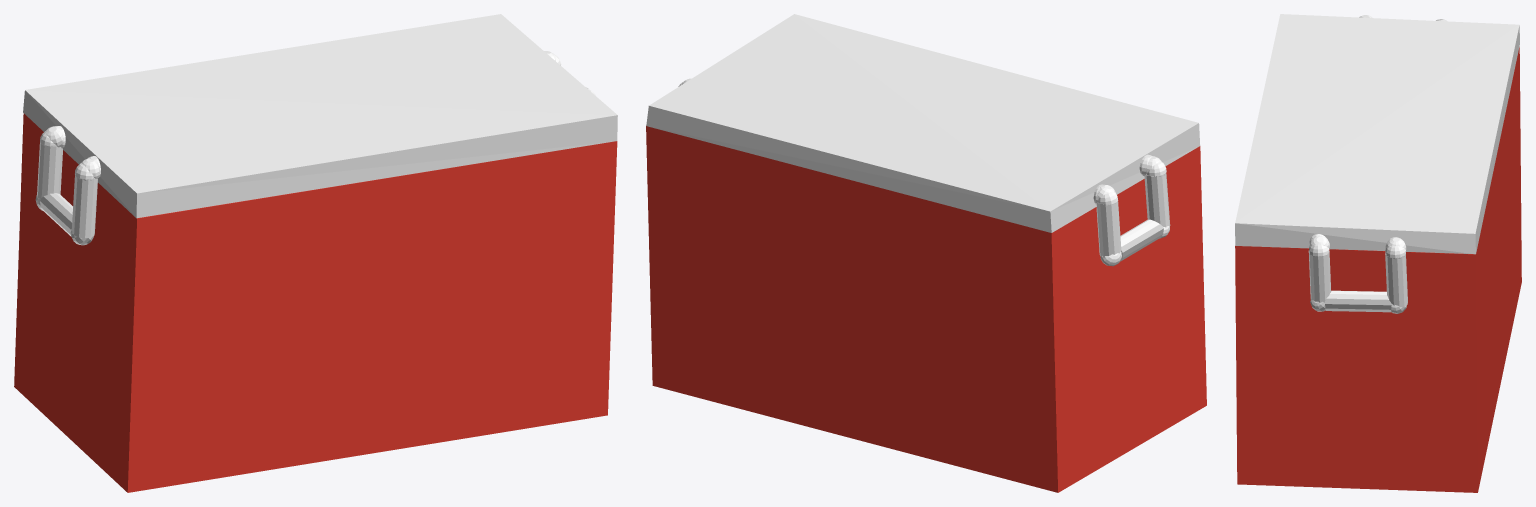
Rendered from Red Cooler, Closed by S. Paul Michael - f7q6m6IL8UI.glb.
3 views of the same model, side by side, from view 1: azimuth 30°, elevation 25°; view 2: azimuth 150°, elevation 25°; view 3: azimuth 270°, elevation 25° (orthographic). The views are drawn at different scales.
Visible parts, largest first — view 1: group1410695581, group228052646, group504770976, group684358655, group424572092; view 2: group1410695581, group228052646, group684358655, group504770976, group424572092; view 3: group1410695581, group228052646, group619115582, group860581732, group867282281.
Boxes of the visible parts, x1,y1,x2,y2 form: group1410695581: (14, 113, 617, 492); group228052646: (23, 14, 617, 218); group504770976: (71, 174, 97, 238); group684358655: (37, 142, 62, 198); group424572092: (40, 193, 72, 236); group1410695581: (646, 126, 1206, 492); group228052646: (646, 14, 1200, 232); group684358655: (1096, 201, 1121, 257); group504770976: (1144, 173, 1170, 227); group424572092: (1120, 219, 1163, 261); group1410695581: (1235, 47, 1521, 492); group228052646: (1235, 14, 1519, 254); group619115582: (1325, 290, 1391, 312); group860581732: (1385, 253, 1407, 307); group867282281: (1308, 251, 1331, 302).
Size of the model in its own units: 0.4914 by 0.2918 by 0.2734.
